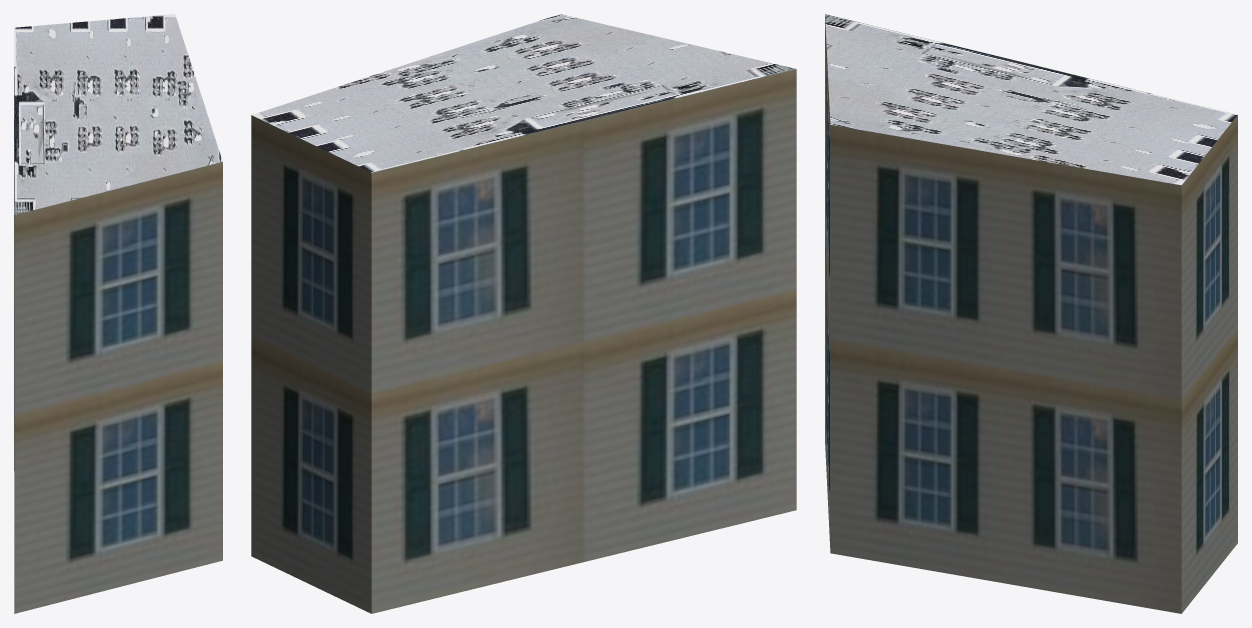
File: ResTex__3523.fbx
The picture shows the model from 3 angles, left to right: view 1: azimuth 30°, elevation 25°; view 2: azimuth 150°, elevation 25°; view 3: azimuth 270°, elevation 25°; orthographic projection. The views are drawn at different scales.
Visible parts, largest first — view 1: CityEngineMaterial_7_m, CityEngineMaterial_8_m; view 2: CityEngineMaterial_7_m, CityEngineMaterial_8_m; view 3: CityEngineMaterial_7_m, CityEngineMaterial_8_m.
Part boxes in pixels (x1,y1,x2,y2): CityEngineMaterial_7_m: [14, 73, 222, 613]; CityEngineMaterial_8_m: [14, 14, 222, 214]; CityEngineMaterial_7_m: [251, 69, 796, 613]; CityEngineMaterial_8_m: [252, 14, 795, 172]; CityEngineMaterial_7_m: [825, 16, 1237, 613]; CityEngineMaterial_8_m: [825, 14, 1237, 185].
Bounding box in the file's own units: 5.14 × 6 × 5.24.
Materials: 2 (2 with a texture image).
